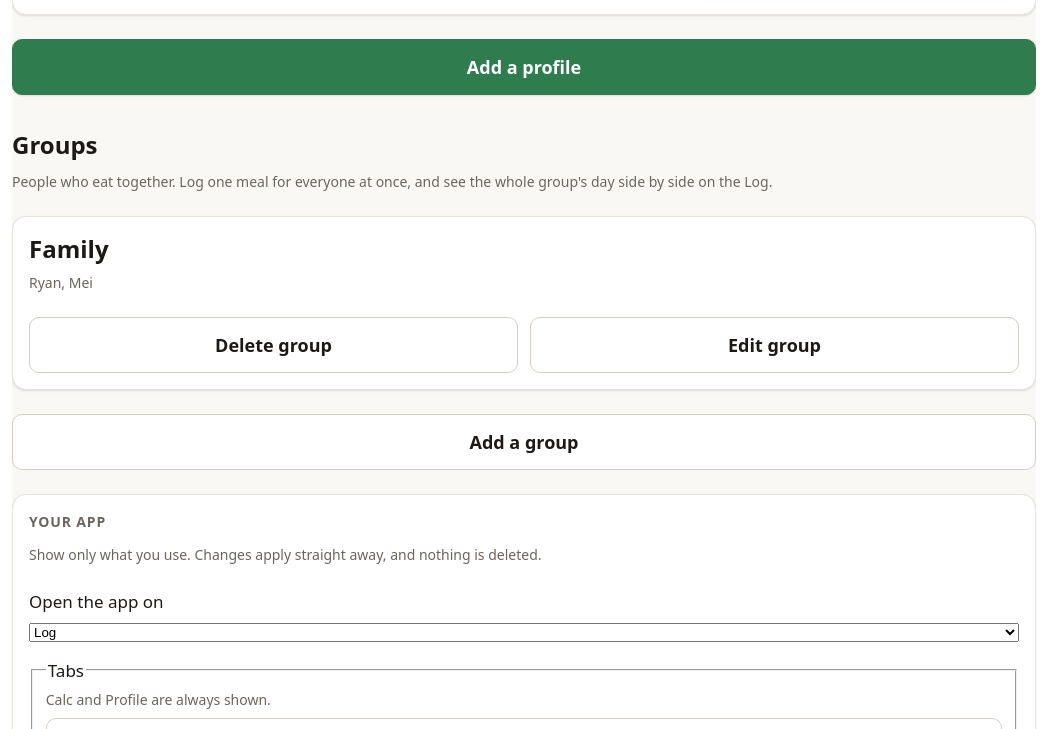
ProfileScreen groups › deletes a group but keeps its people
(page scrolled)
Click the button "Delete group". click: (274, 345)
box: [29,317,518,373]
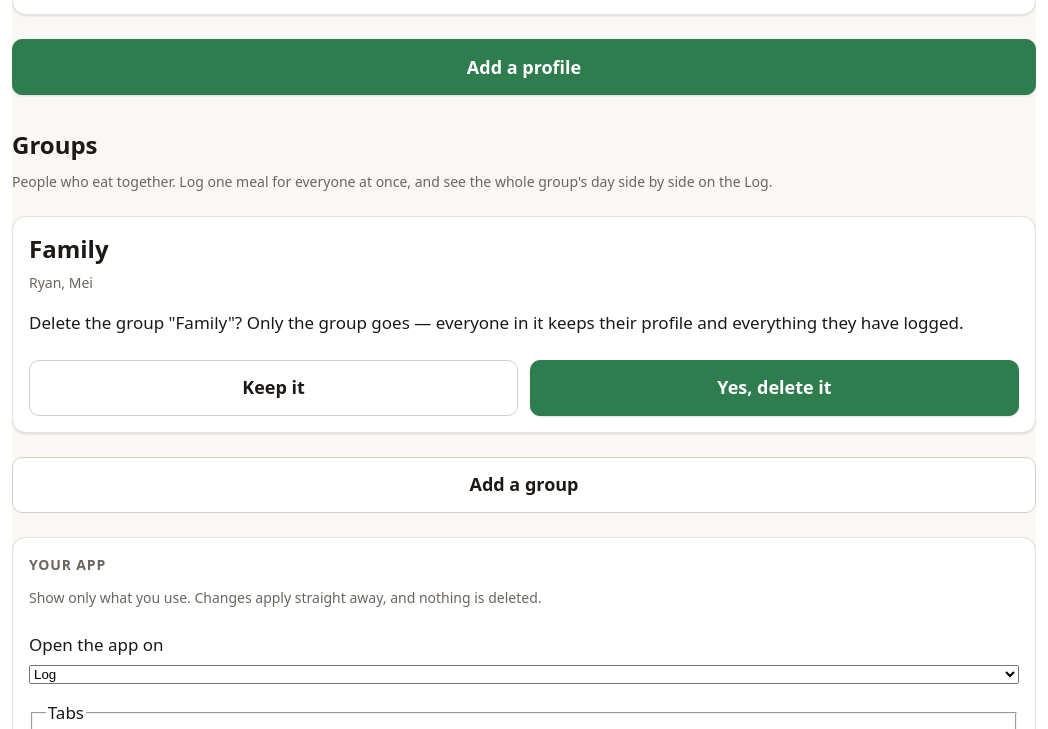
Click the button "Yes, delete it". click: (774, 388)
box: [530,360,1019,416]
(page scrolled)
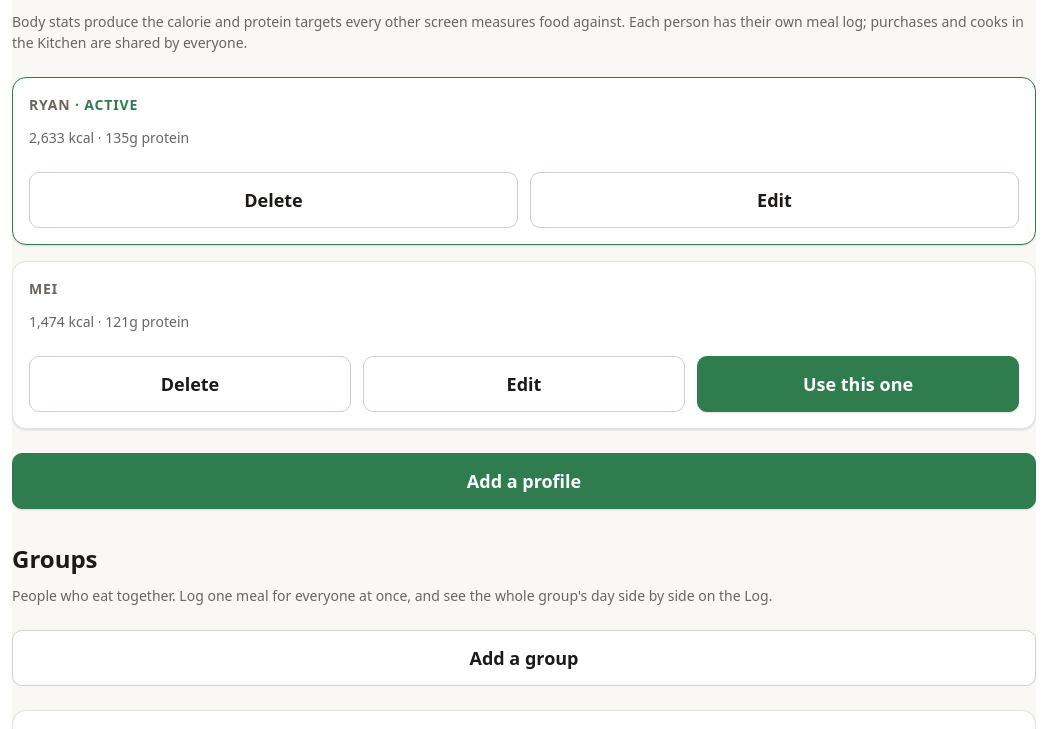
Check: the element with test id "profile-p2" is shown, box [12,261,1036,429]
Check: the element with test id "group-g1" is gone
